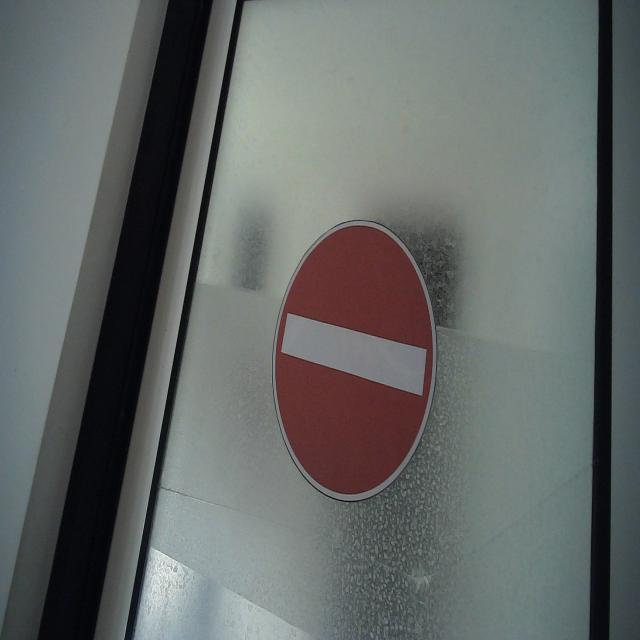no_entry: (270, 215, 439, 506)
